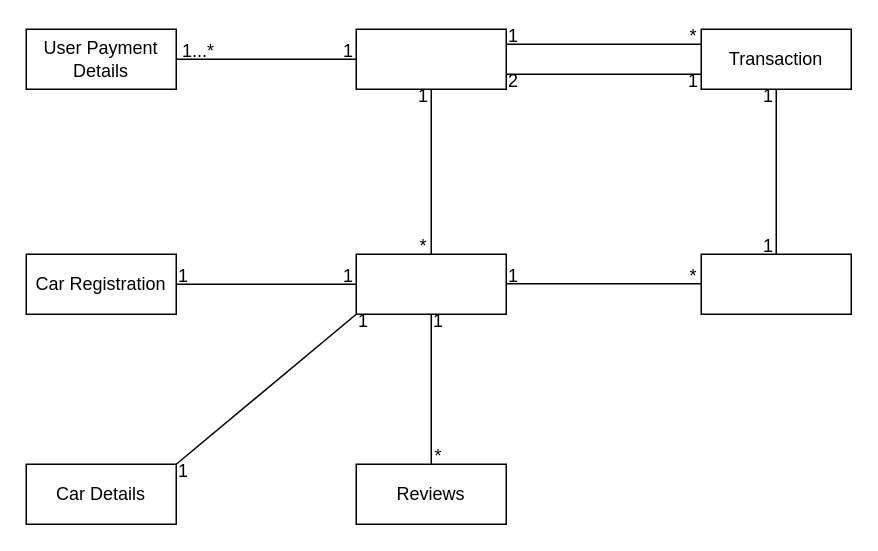
Image size: 878x551. Some labels were removed from this diagram. Here are the shapes that lost their labels. From the top down, the centre of each, then its label:
[430,58]: User
[430,283]: Car
[775,283]: Schedule
